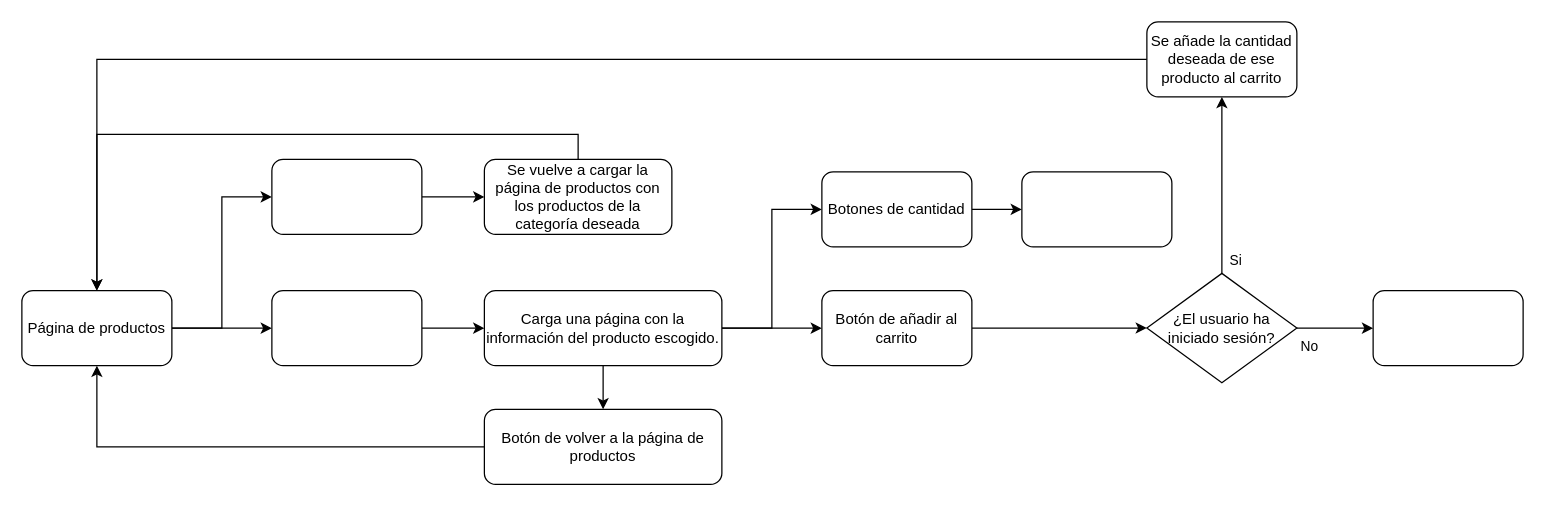
Image size: 1545x506. Some labels were removed from this diagram. The centre of each missing label's shape, as x and y in pixels:
"Botones de categorías" goes at point 346,196.
"Botones de los distintos productos" goes at point 346,327.
"Modifican la cantidad de productos que se añadirán al carrito" goes at point 1096,209.
"Se le redirige a la página de inicio de sesión" goes at point 1447,327.
